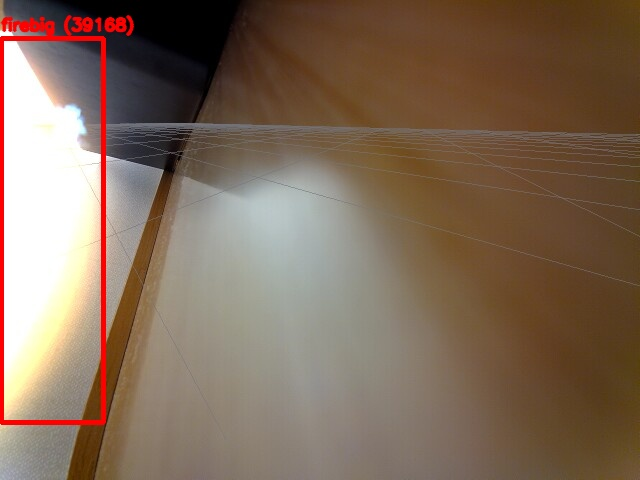firebig: (1, 38, 103, 422)
